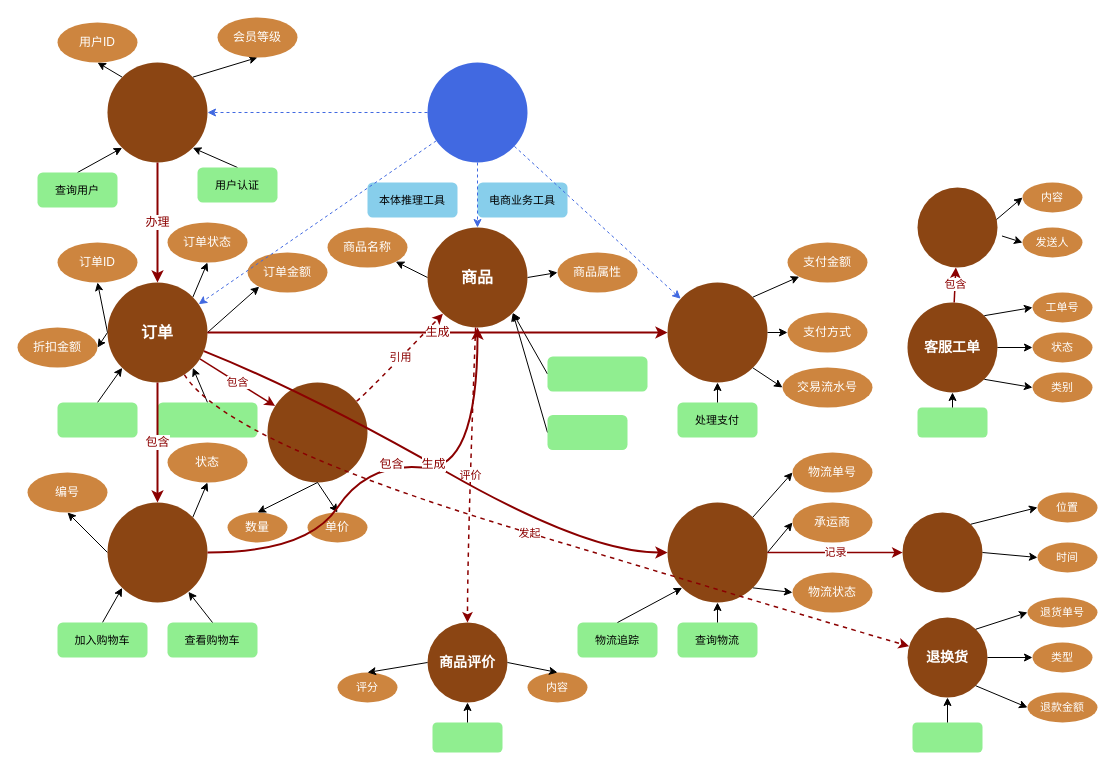
Image size: 1114x769. Some labels were removed from this diagram. Here are the shapes that lost their labels. From the top down, the box of each, then its label:
(107, 62, 207, 162): 用户
(427, 62, 527, 162): 电商本体
(917, 187, 997, 267): 客服消息
(667, 282, 767, 382): 支付单
(547, 356, 647, 391): 商品推荐查询
(57, 402, 137, 437): 创建订单
(157, 402, 257, 437): 订单信息采集
(267, 382, 367, 482): 订单明细
(547, 414, 627, 450): 商品查询
(917, 407, 987, 437): 创建工单
(107, 502, 207, 602): 购物车
(667, 502, 767, 602): 物流单
(902, 512, 982, 592): 物流轨迹
(432, 722, 502, 752): 获取评价
(912, 722, 982, 752): 处理退货
